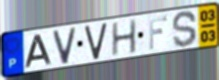A: (24, 33, 54, 69)
F: (147, 14, 169, 51)
H: (110, 18, 138, 58)
S: (171, 10, 199, 49)
V: (51, 26, 78, 66), (83, 21, 109, 62)
